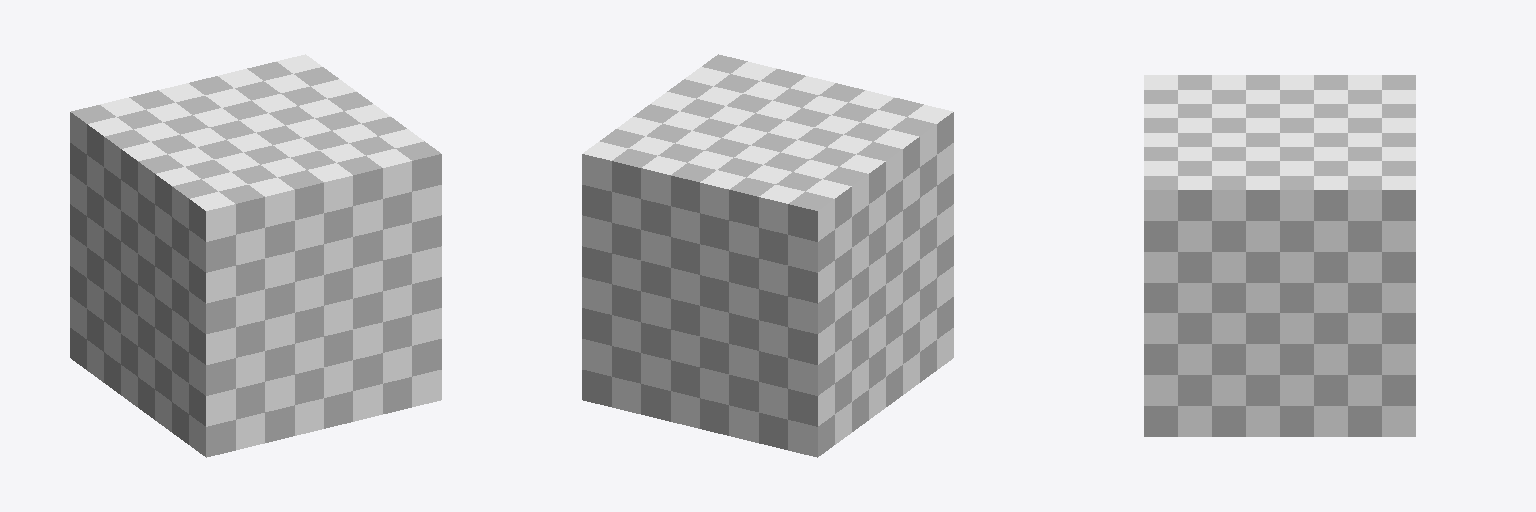
The picture shows the model from 3 angles: view 1: azimuth 30°, elevation 25°; view 2: azimuth 150°, elevation 25°; view 3: azimuth 270°, elevation 25°; orthographic projection.
Visible parts, largest first — view 1: Cube; view 2: Cube; view 3: Cube.
Part boxes in pixels (x1,y1,x2,y2): Cube: (70,54,441,457); Cube: (582,54,953,457); Cube: (1144,75,1415,436).
Size of the model in its own units: 100 by 100 by 100.
Materials: 1 (1 with a texture image).